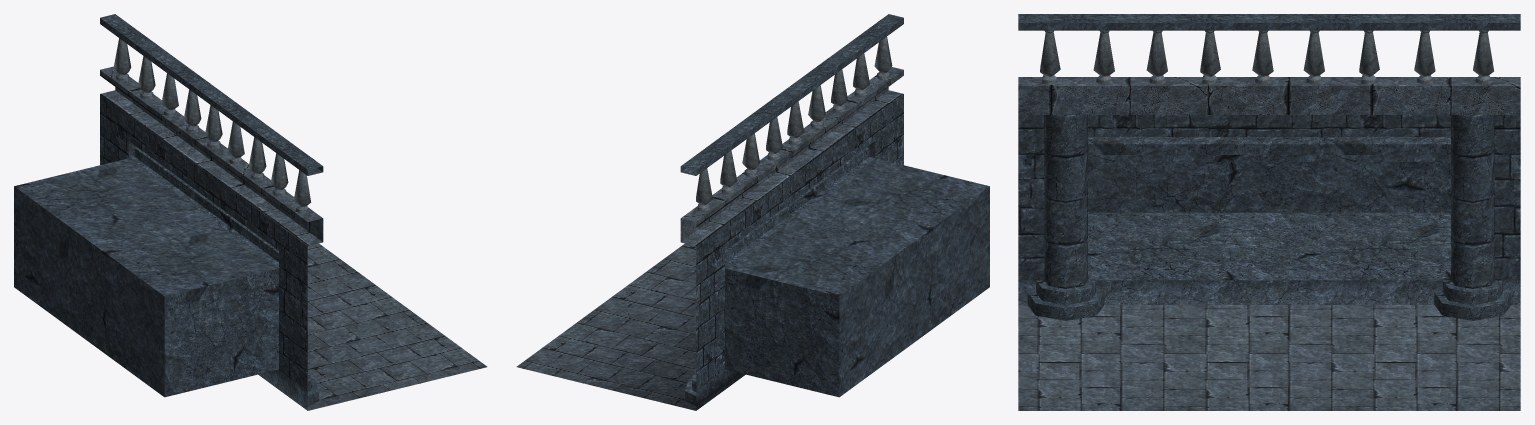
File: DownFloor_middle2.FBX
The picture shows the model from 3 angles, left to right: view 1: azimuth 30°, elevation 25°; view 2: azimuth 150°, elevation 25°; view 3: azimuth 270°, elevation 25°; orthographic projection. The views are drawn at different scales.
Parts seen in each view (by area): view 1: DownFloor_middle2; view 2: DownFloor_middle2; view 3: DownFloor_middle2.
Part boxes in pixels (x1,y1,x2,y2): DownFloor_middle2: (14,14,487,410); DownFloor_middle2: (516,14,989,410); DownFloor_middle2: (1018,14,1520,410).
Size of the model in its own units: 75.12 by 58.73 by 91.85.
